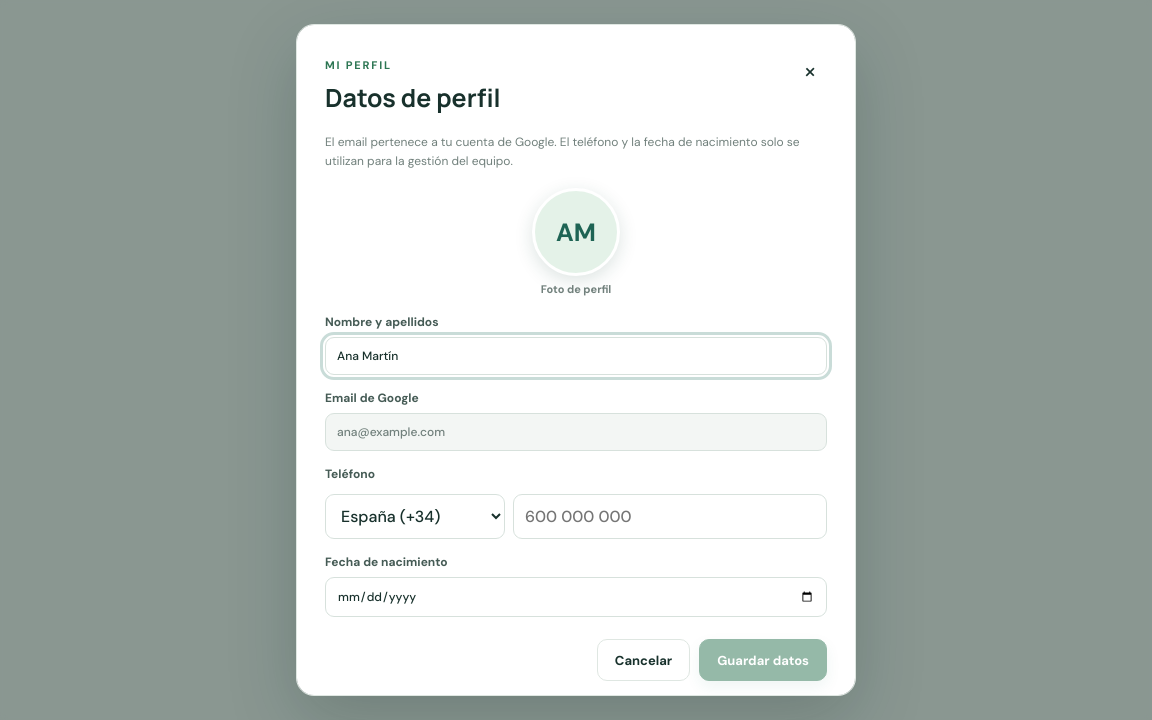
Test: ProfileDetailsDialog › rejects an incomplete number for the selected country
The image size is (1152, 720).
Type "600" into the field labelled "Teléfono" at (670, 517), box [513,494,827,539]
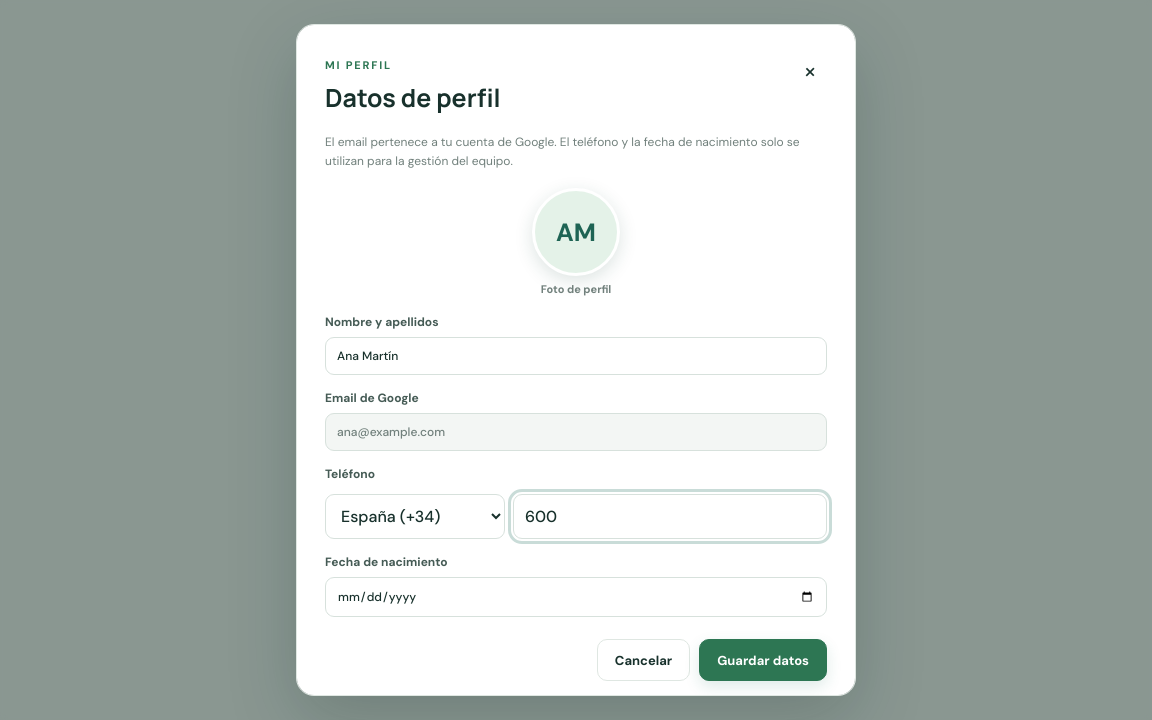
Click the button "Guardar datos" at (763, 660), box [699,639,827,681]
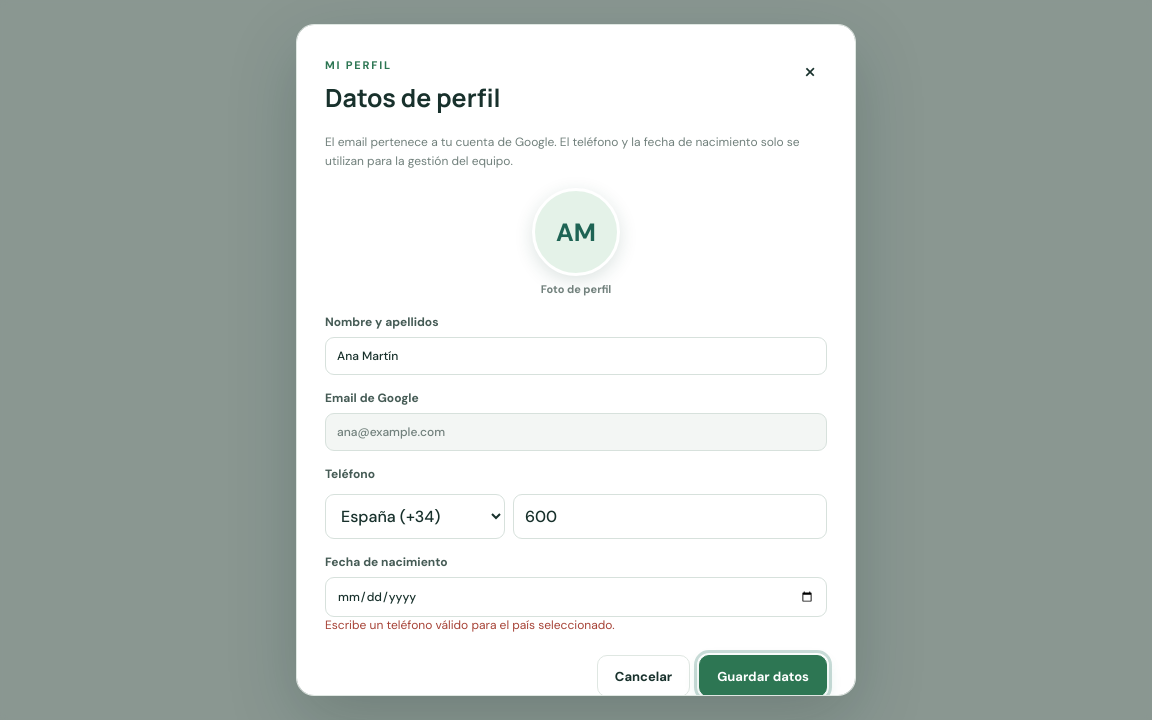
Expected: the message shows "teléfono válido para el país seleccionado", [325,617,615,633]
